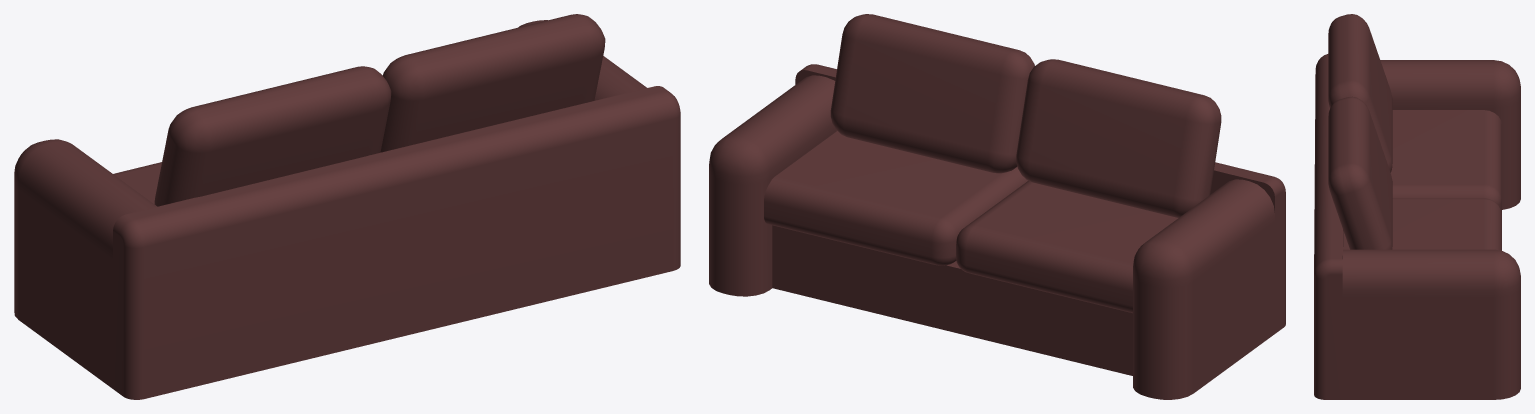
The model's file is Canape2_1.fbx.
3 renders of one model, left to right at view 1: azimuth 30°, elevation 25°; view 2: azimuth 150°, elevation 25°; view 3: azimuth 270°, elevation 25°, orthographic. The views are drawn at different scales.
Visible parts, largest first — view 1: pCube1068, pCube2538, pCube2535, pCube2534, pCube2533, pCube2523; view 2: pCube2538, pCube2535, pCube2534, pCube2539, pCube2522, pCube2523, pCube2533, pCube1068; view 3: pCube2533, pCube2523, pCube2538, pCube2534, pCube1068, pCube2522, pCube2535.
Boxes of the visible parts, left/top/right/bottom form: pCube1068: left=113, top=86, right=680, bottom=399; pCube2538: left=14, top=139, right=157, bottom=388; pCube2535: left=154, top=66, right=391, bottom=206; pCube2534: left=380, top=14, right=605, bottom=152; pCube2533: left=518, top=20, right=646, bottom=100; pCube2523: left=113, top=162, right=161, bottom=203; pCube2538: left=1133, top=179, right=1274, bottom=399; pCube2535: left=1016, top=59, right=1221, bottom=217; pCube2534: left=830, top=14, right=1034, bottom=173; pCube2539: left=772, top=225, right=1132, bottom=375; pCube2522: left=764, top=131, right=1027, bottom=265; pCube2523: left=956, top=180, right=1178, bottom=313; pCube2533: left=709, top=75, right=836, bottom=296; pCube1068: left=795, top=64, right=1285, bottom=333; pCube2533: left=1342, top=249, right=1520, bottom=399; pCube2523: left=1390, top=110, right=1501, bottom=213; pCube2538: left=1380, top=60, right=1520, bottom=209; pCube2534: left=1328, top=96, right=1392, bottom=249; pCube1068: left=1314, top=54, right=1343, bottom=399; pCube2522: left=1343, top=198, right=1501, bottom=250; pCube2535: left=1328, top=14, right=1392, bottom=172.
Size of the model in its own units: 167 by 73.88 by 68.22.
